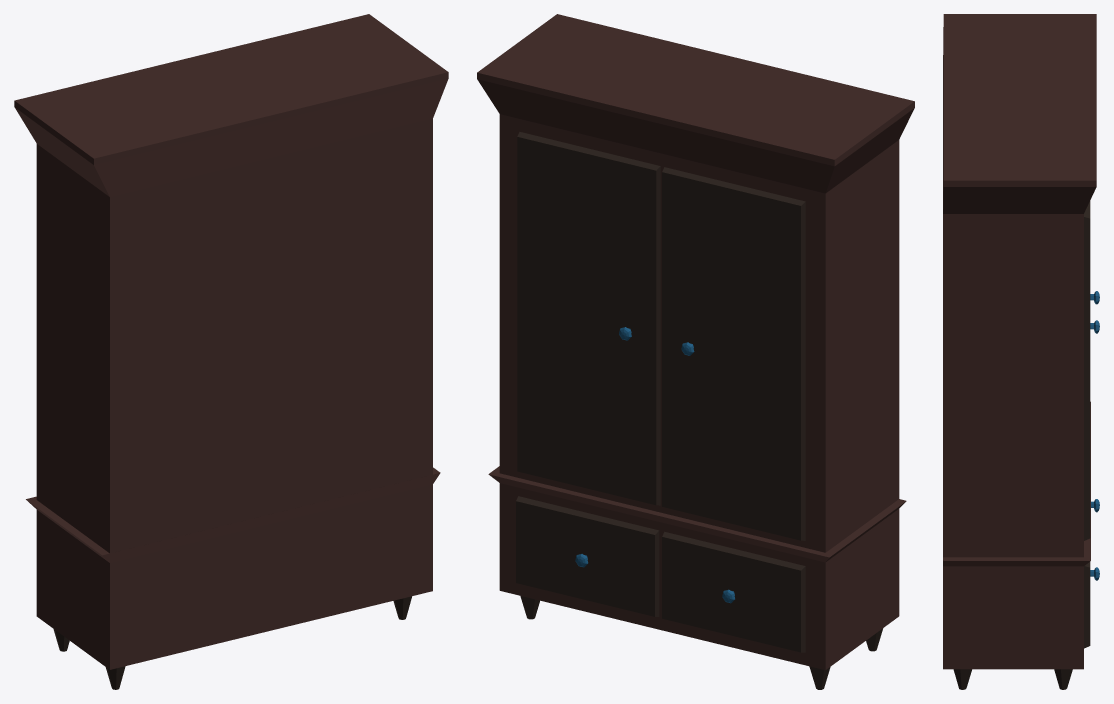
Rendered from Armoire.fbx.
3 views of the same model, side by side, from view 1: azimuth 30°, elevation 25°; view 2: azimuth 150°, elevation 25°; view 3: azimuth 270°, elevation 25° (orthographic). The views are drawn at different scales.
Visible parts, largest first — view 1: Cone.001; view 2: Cone.001; view 3: Cone.001.
Boxes of the visible parts, x1=… form: Cone.001: x1=14, y1=14, x2=448, y2=689; Cone.001: x1=477, y1=14, x2=914, y2=689; Cone.001: x1=943, y1=14, x2=1099, y2=689.
Bounding box in the file's own units: 428 × 628 × 170.
